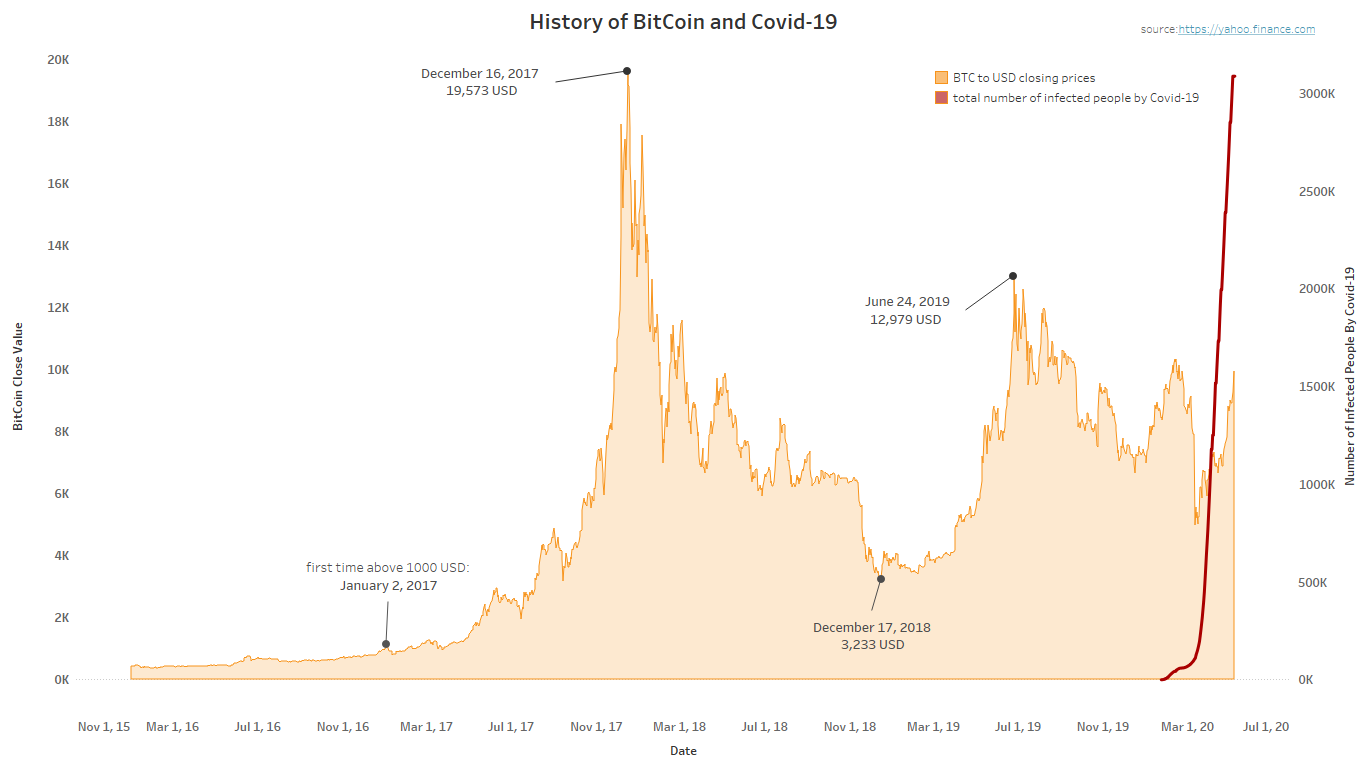

The dashboard page shown, as its layout file describes it:
{"tool":"tableau","page":{"name":"BitcoinHistory","canvas":[1366,768],"ordinal":0},"visuals":[{"type":"worksheet","title":"Recent History of BitCoin","mark":"Line","rows":["Close (BTC-USD.csv)","Daily New Infections (Global)"],"cols":["Date (BTC-USD.csv)"],"box":[2,0,1363,766]},{"type":"text","box":[1138,10,219,38]},{"type":"legend","title":"Recent History of BitCoin","param":"[federated.0rg4kuo0qrrmle1eso1do0pyr2xw].[:Measure Names]","box":[1020,67,188,50]}]}

Visuals, with their boxes in screenshot pixels (x1, y1, x2, y2), scaled from the page's 1366x768 canvas onto the 1366x768 screenshot:
"Recent History of BitCoin" worksheet (Line marks): region(2, 0, 1365, 766)
text: region(1138, 10, 1357, 48)
"Recent History of BitCoin" legend: region(1020, 67, 1208, 117)
